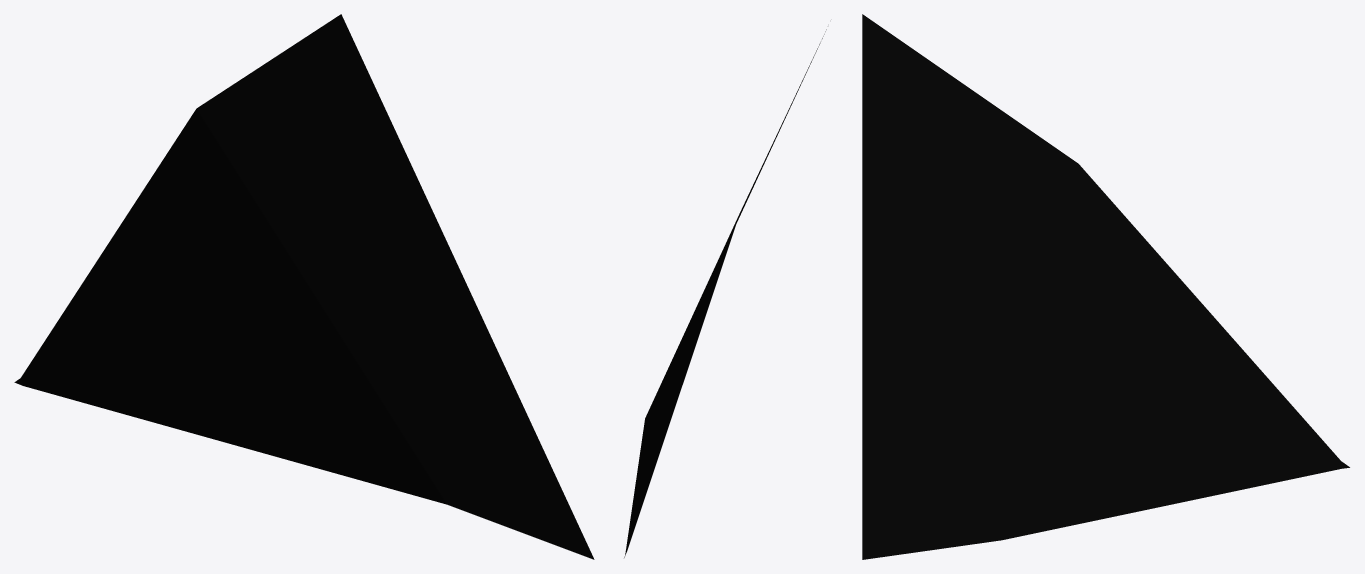
The picture shows the model from 3 angles, left to right: view 1: azimuth 30°, elevation 25°; view 2: azimuth 150°, elevation 25°; view 3: azimuth 270°, elevation 25°; orthographic projection. The views are drawn at different scales.
Size of the model in its own units: 0.6056 by 1.39 by 1.35.
Materials: 1 (1 with a texture image).
